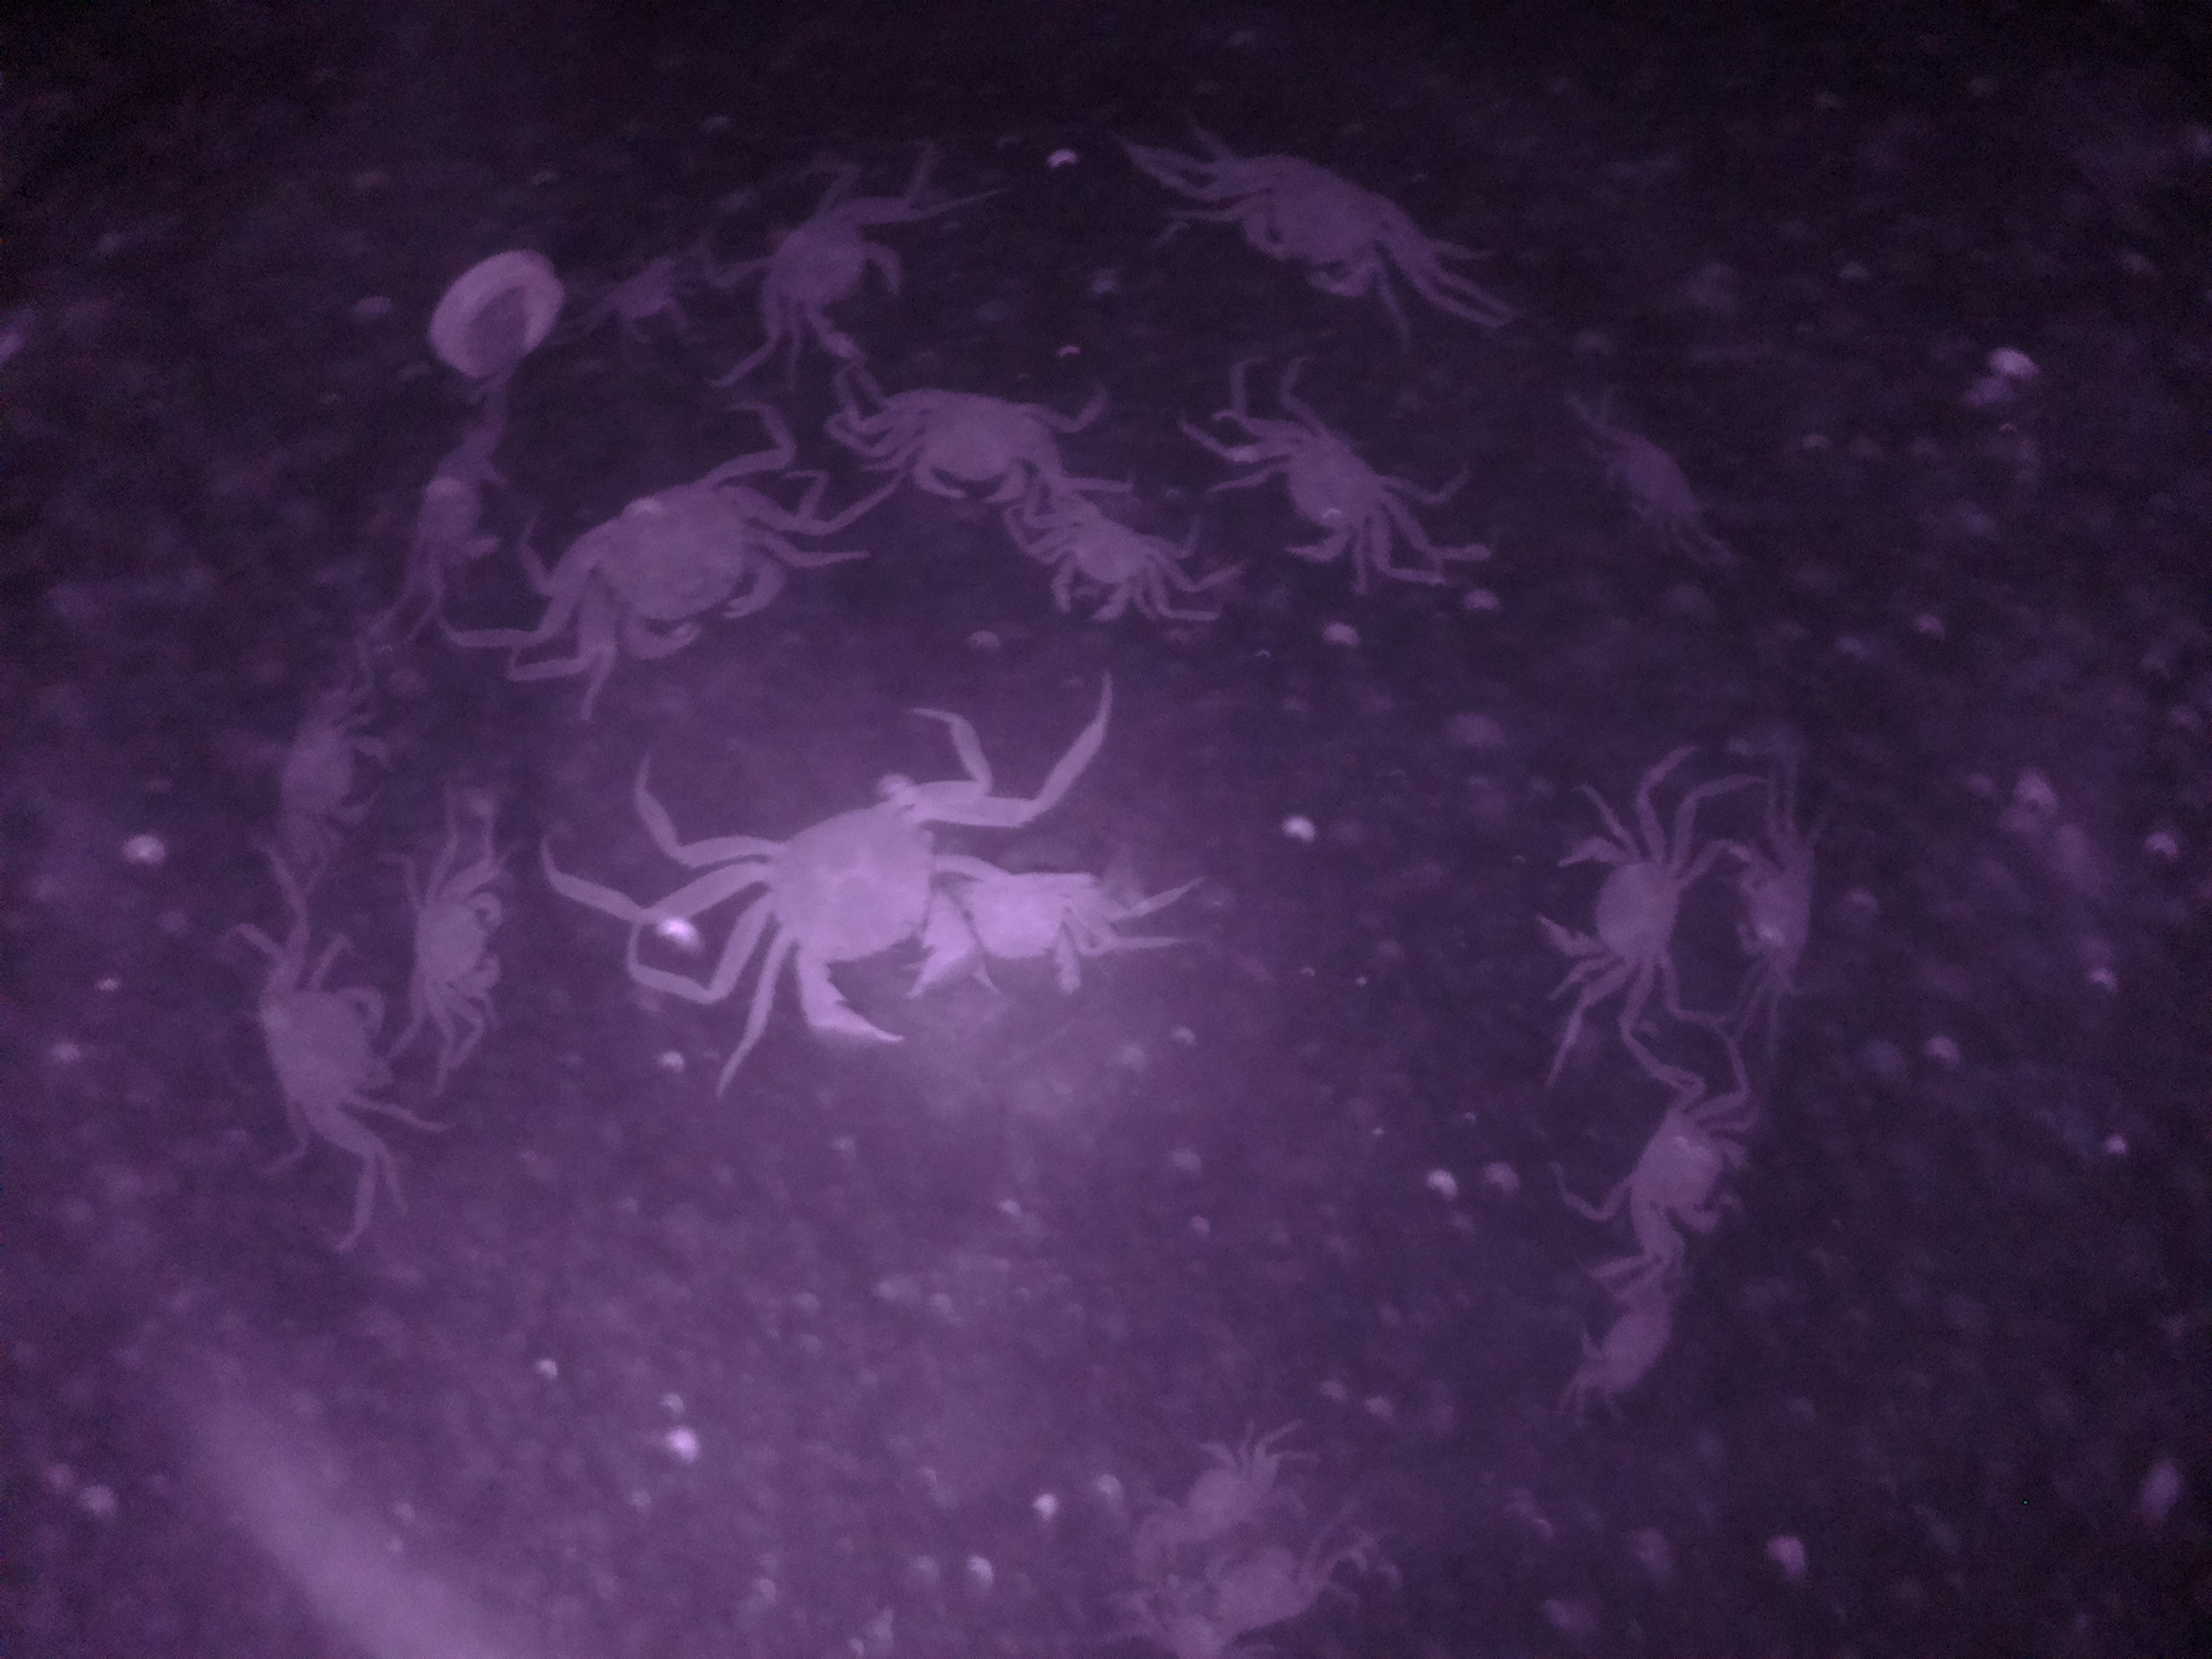Crab: (732, 749, 982, 1068), (566, 451, 799, 680), (1193, 131, 1428, 308), (1531, 810, 1714, 1012), (249, 967, 397, 1175), (752, 169, 906, 361), (1247, 390, 1413, 565), (864, 371, 1073, 509), (1608, 1086, 1747, 1270), (1024, 483, 1176, 629), (397, 859, 523, 1018)
